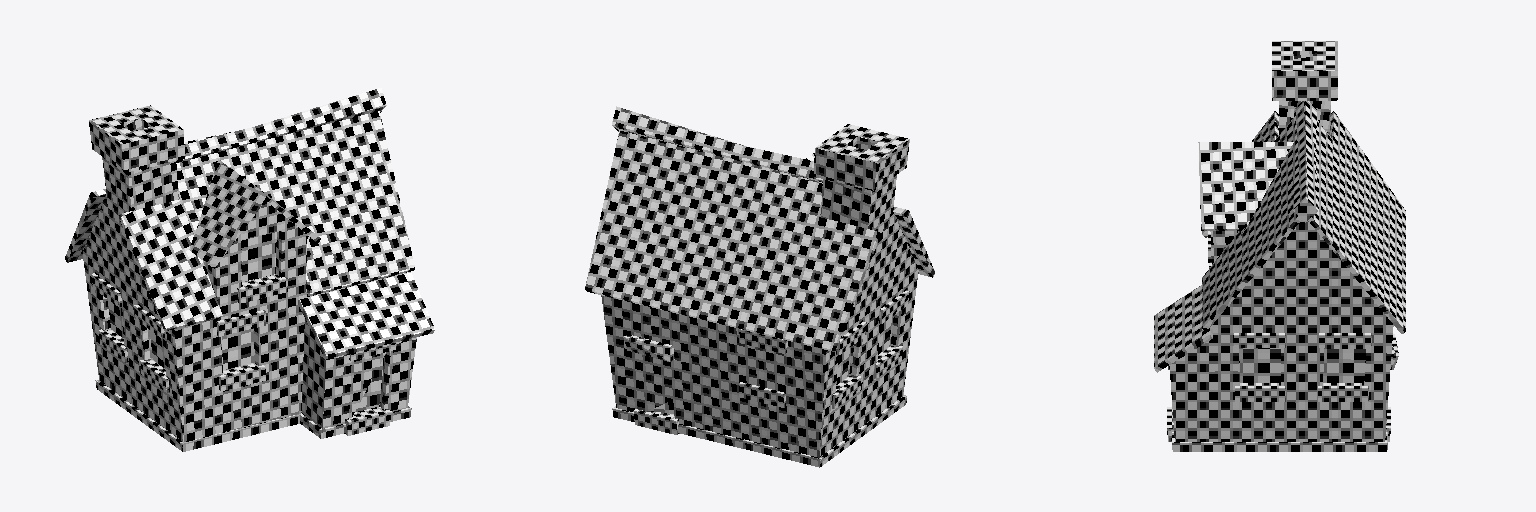
3 views of the same model, side by side, from view 1: azimuth 30°, elevation 25°; view 2: azimuth 150°, elevation 25°; view 3: azimuth 270°, elevation 25° (orthographic).
Visible parts, largest first — view 1: Casa_01; view 2: Casa_01; view 3: Casa_01.
Part boxes in pixels (x1,y1,x2,y2): Casa_01: (65,88,434,451); Casa_01: (585,106,934,467); Casa_01: (1154,41,1405,451).
Size of the model in its own units: 69.94 by 71.36 by 55.04.
Materials: 1 (1 with a texture image).